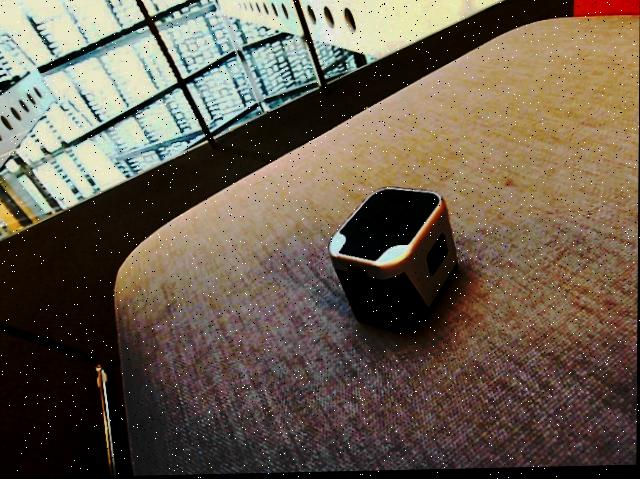adapter: (329, 186, 458, 336)
